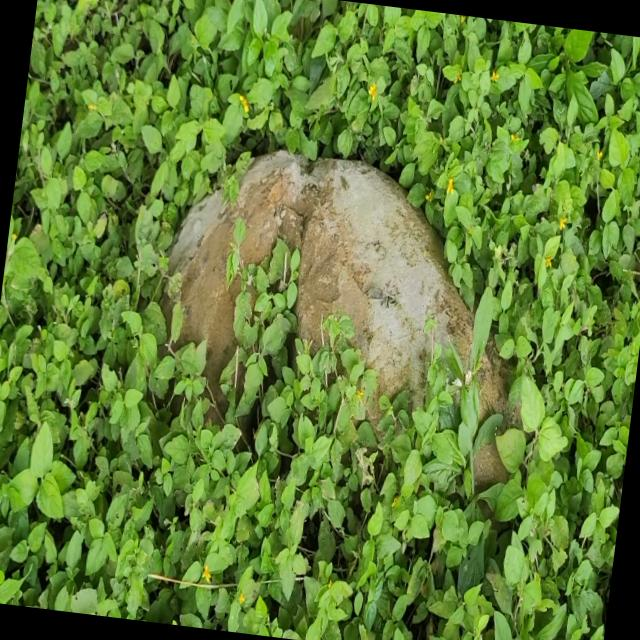stone: (171, 150, 473, 403)
